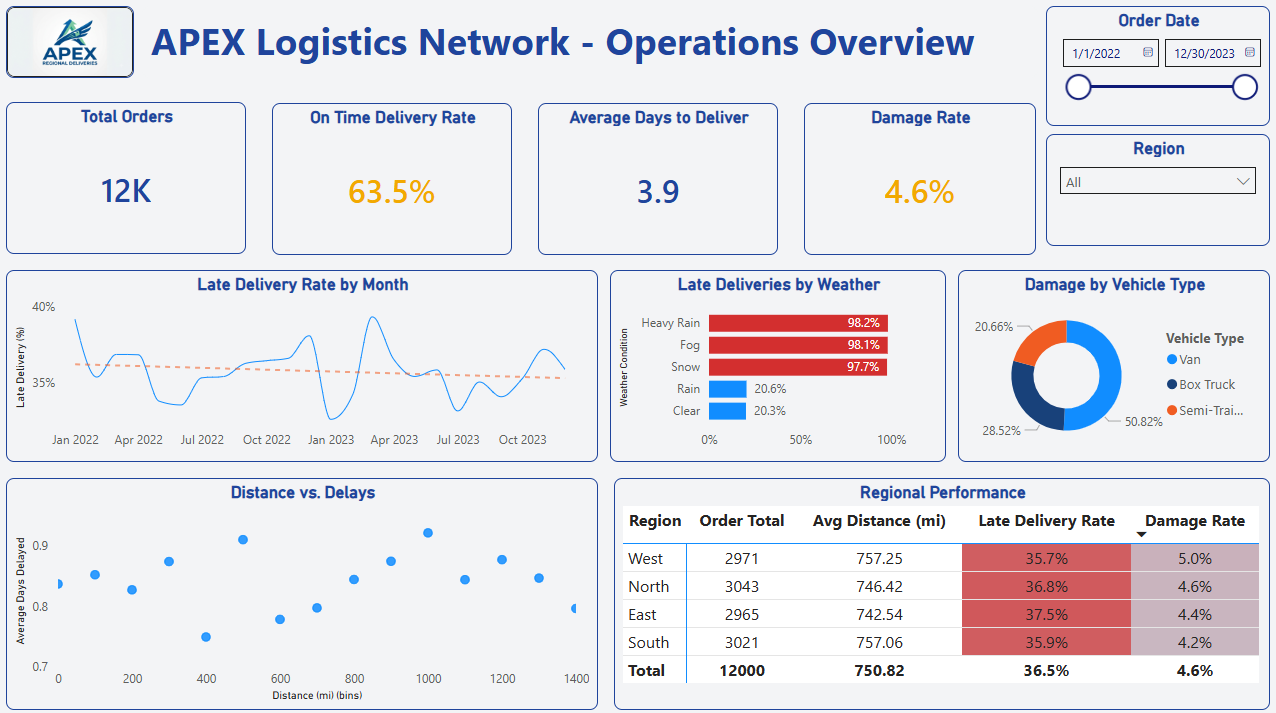

Layout of this report page (visuals, bound fields, positions):
{"tool":"powerbi","page":{"name":"Page 1","canvas":[1280,720],"ordinal":0},"visuals":[{"type":"textbox","box":[144,8,896,72],"z":0},{"type":"image","box":[8,8,128,72],"z":1000},{"type":"cardVisual","title":"Total Orders","fields":{"Data":["Count(public cleaned_logistics_data.orderid)"]},"box":[8,104,240,152],"z":2000},{"type":"cardVisual","title":"On Time Delivery Rate","fields":{"Data":["public cleaned_logistics_data.On_Time_Delivery_Rate"]},"box":[274.1,105,240,152],"z":3000},{"type":"cardVisual","title":"Average Days to Deliver","fields":{"Data":["Avg(public cleaned_logistics_data.days_to_deliver)"]},"box":[540.2,105,240,152],"z":4000},{"type":"cardVisual","title":"Damage Rate","fields":{"Data":["public cleaned_logistics_data.Damage_Rate"]},"box":[806.4,105,232,152],"z":5000},{"type":"lineChart","title":"Late Delivery Rate by Month","fields":{"Category":["public cleaned_logistics_data.order_date.Variation.Date Hierarchy.Year","public cleaned_logistics_data.order_date.Variation.Date Hierarchy.Month"],"Y":["Avg(public cleaned_logistics_data.is_late)"]},"box":[8,272,592,192],"z":6000},{"type":"clusteredBarChart","title":"Late Deliveries by Weather","fields":{"Category":["public cleaned_logistics_data.weathercondition"],"Y":["Avg(public cleaned_logistics_data.is_late)"]},"box":[612,272,336,192],"z":7000},{"type":"donutChart","title":"Damage by Vehicle Type","fields":{"Category":["public cleaned_logistics_data.vehicletype"],"Y":["CountNonNull(public cleaned_logistics_data.orderid)"]},"box":[960,272,312,192],"z":8000},{"type":"pivotTable","title":"Regional Performance","fields":{"Rows":["public cleaned_logistics_data.region"],"Values":["CountNonNull(public cleaned_logistics_data.orderid)","Avg(public cleaned_logistics_data.distance_miles)","public cleaned_logistics_data.Late_Delivery_Rate","public cleaned_logistics_data.Damage_Rate"]},"box":[616,480,656,232],"z":9000},{"type":"scatterChart","title":"Distance vs. Delays","fields":{"X":["public cleaned_logistics_data.distance_miles (bins)"],"Y":["Avg(public cleaned_logistics_data.days_delayed)"]},"box":[8,480,592,232],"z":10000},{"type":"slicer","title":"Order Date","fields":{"Values":["public cleaned_logistics_data.order_date"]},"box":[1048,8,224,120],"z":11000},{"type":"slicer","title":"Region","fields":{"Values":["public cleaned_logistics_data.region"]},"box":[1048,136,224,112],"z":12000}]}

Visuals, with their boxes in screenshot pixels (x1, y1, x2, y2), scaled from the page's 1280x720 canvas onto the 1276x713 screenshot:
textbox: 144:8:1037:79
image: 8:8:136:79
"Total Orders" cardVisual: 8:103:247:254
"On Time Delivery Rate" cardVisual: 273:104:512:255
"Average Days to Deliver" cardVisual: 539:104:778:255
"Damage Rate" cardVisual: 804:104:1035:255
"Late Delivery Rate by Month" lineChart: 8:269:598:459
"Late Deliveries by Weather" clusteredBarChart: 610:269:945:459
"Damage by Vehicle Type" donutChart: 957:269:1268:459
"Regional Performance" pivotTable: 614:475:1268:705
"Distance vs. Delays" scatterChart: 8:475:598:705
"Order Date" slicer: 1045:8:1268:127
"Region" slicer: 1045:135:1268:246
